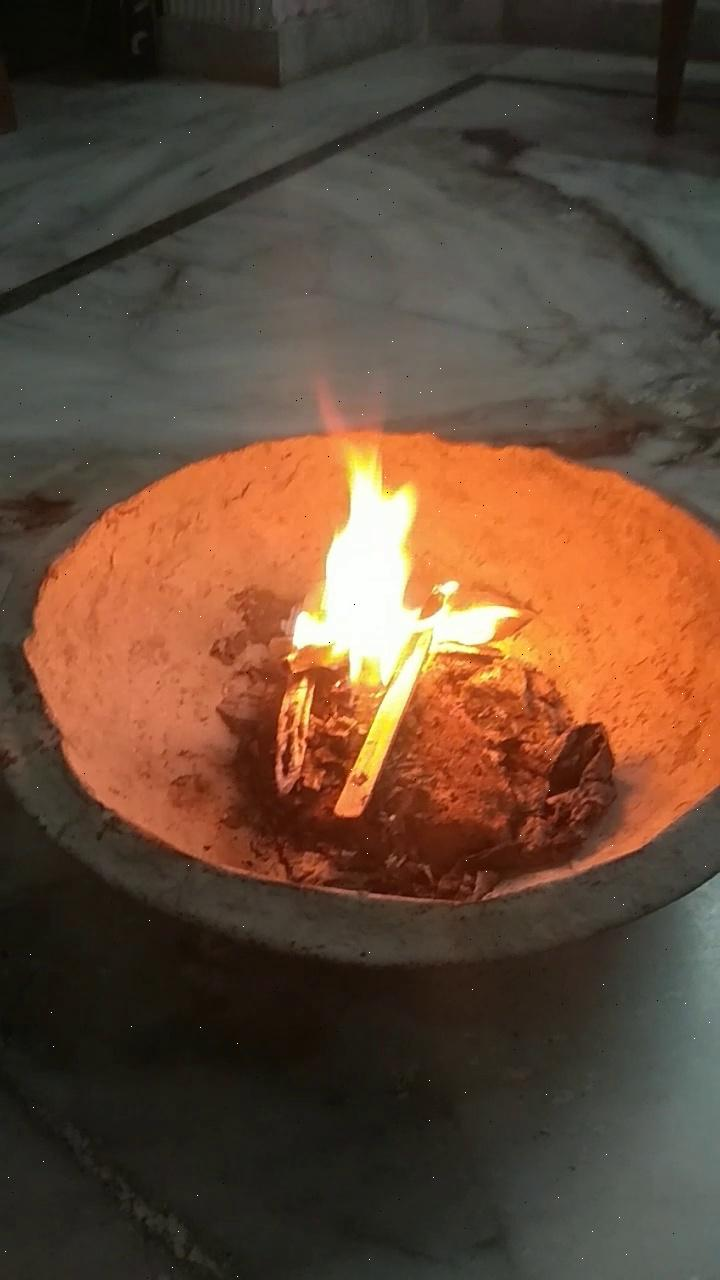fire: (263, 398, 518, 700)
